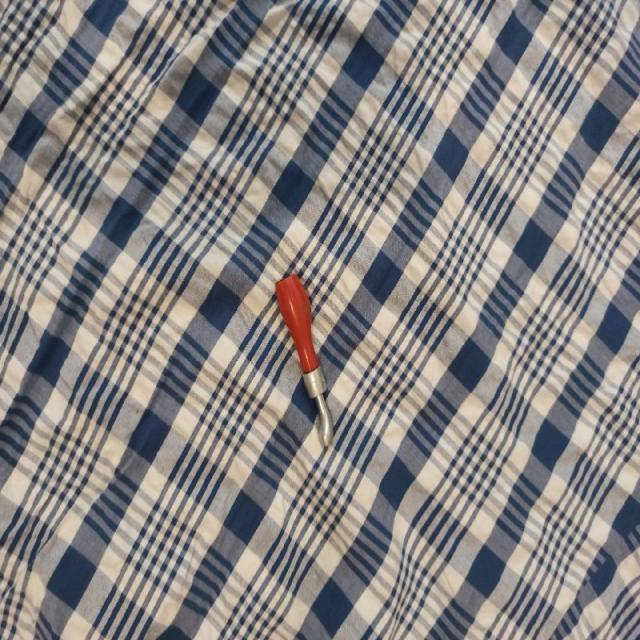lipstick: (274, 272, 332, 447)
